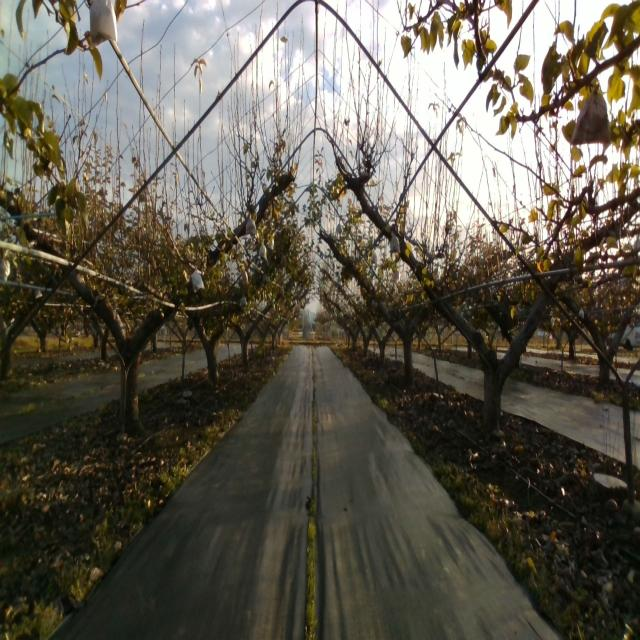pearbags: (570, 81, 612, 146), (90, 0, 117, 50), (192, 265, 204, 293), (388, 232, 401, 254), (245, 213, 257, 234)
